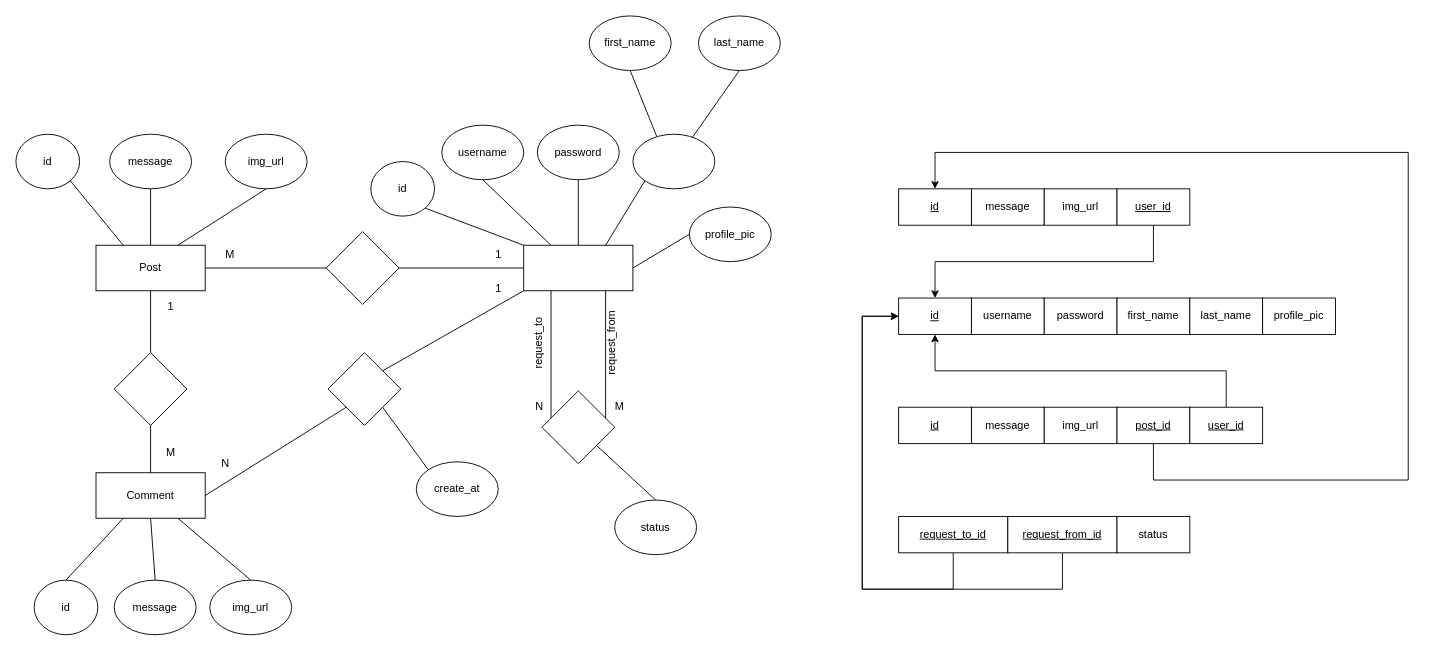
Some shapes in this 1431 by 651 pixel diagram are drawn without their labels. Here are the shapes that lost their labels. From the top down, the centre of each, then its label:
pixel 673 161: name
pixel 362 267: own1
pixel 578 267: User
pixel 150 388: have
pixel 364 388: own2
pixel 578 427: friend
